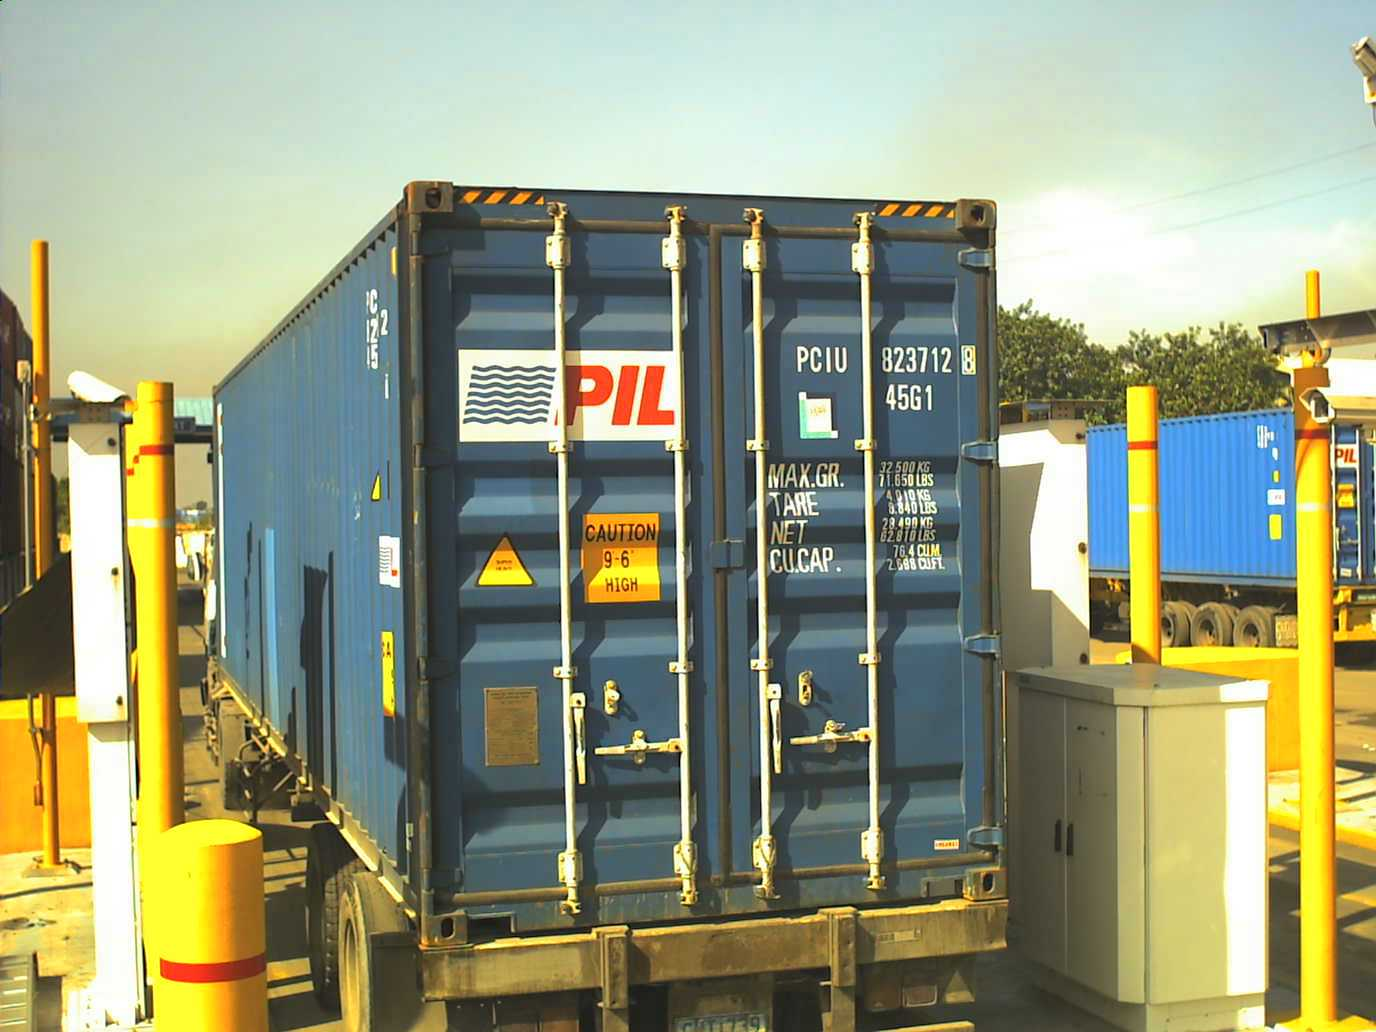container_door: (391, 175, 1018, 907)
